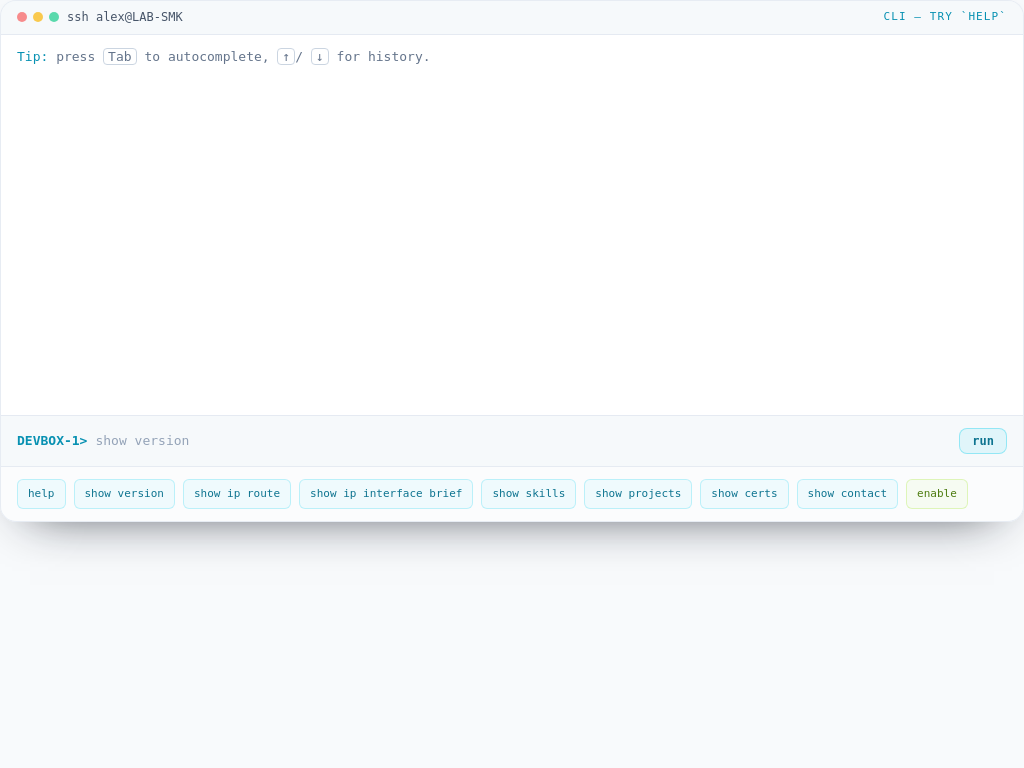
Test: Terminal › completes the current word with Tab
This screenshot has width=1024, height=768.
Type "show sk" into the field named "terminal command input".
click(523, 441); type("show sk")  # box 96,431 -> 951,450
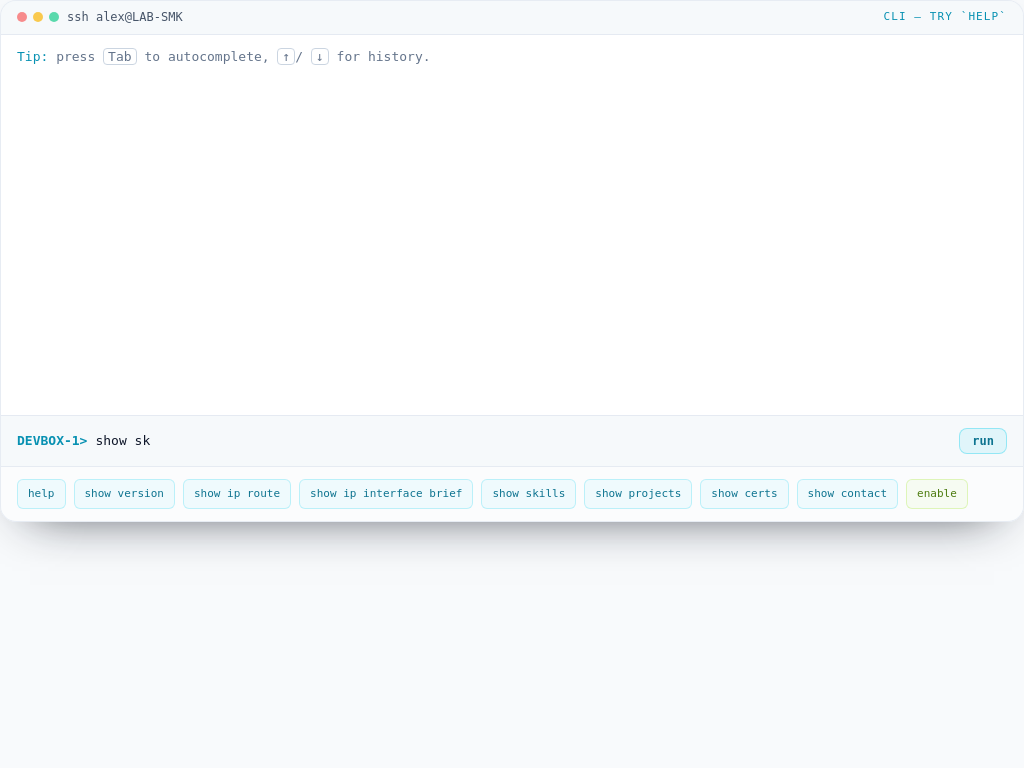
Press Tab
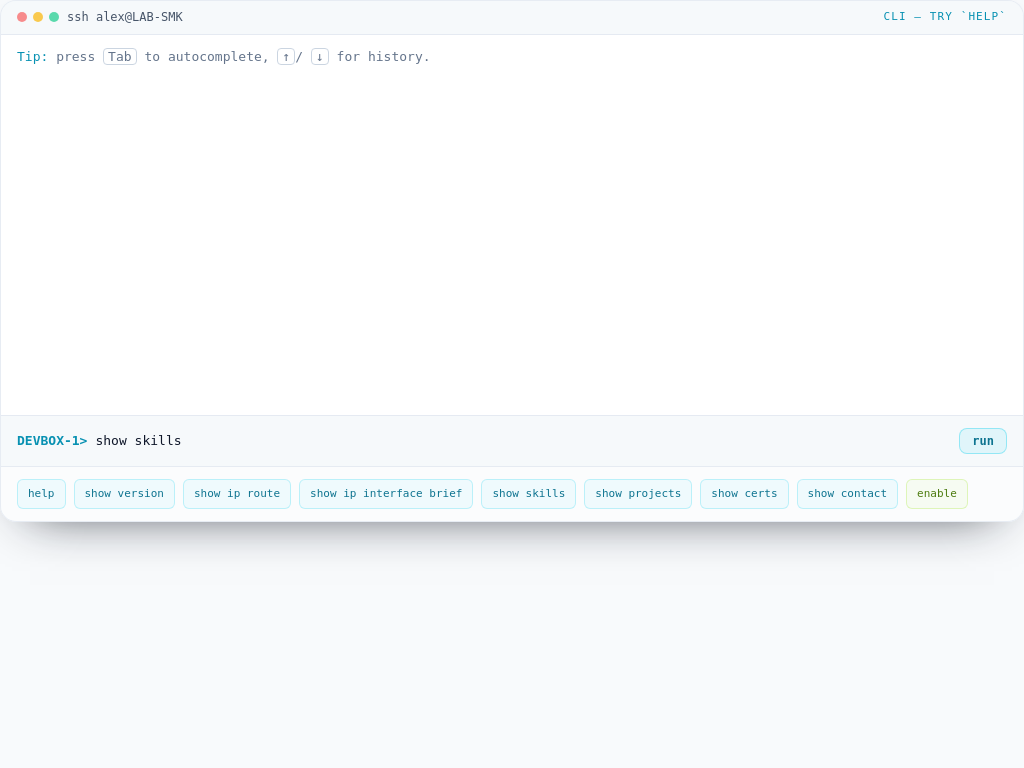
Check: the field named "terminal command input" holds "show skills", box 96,431 -> 951,450
Press Enter
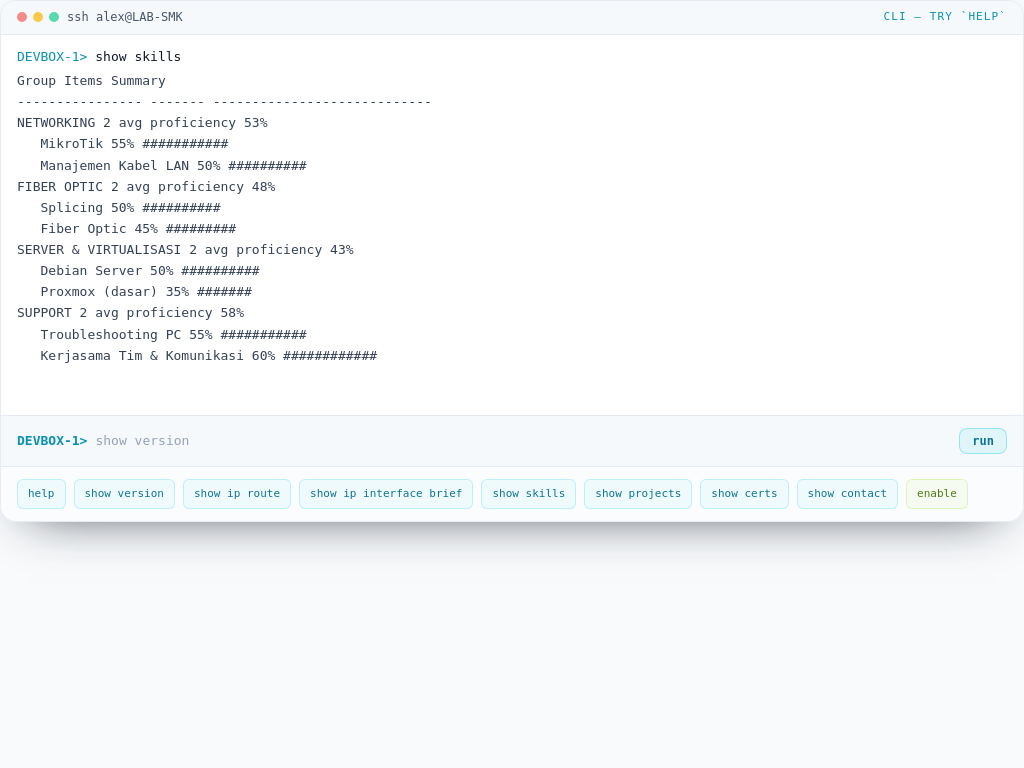
Check: the element with test id "terminal-output" shows "NETWORKING", box 17,115 -> 268,130
